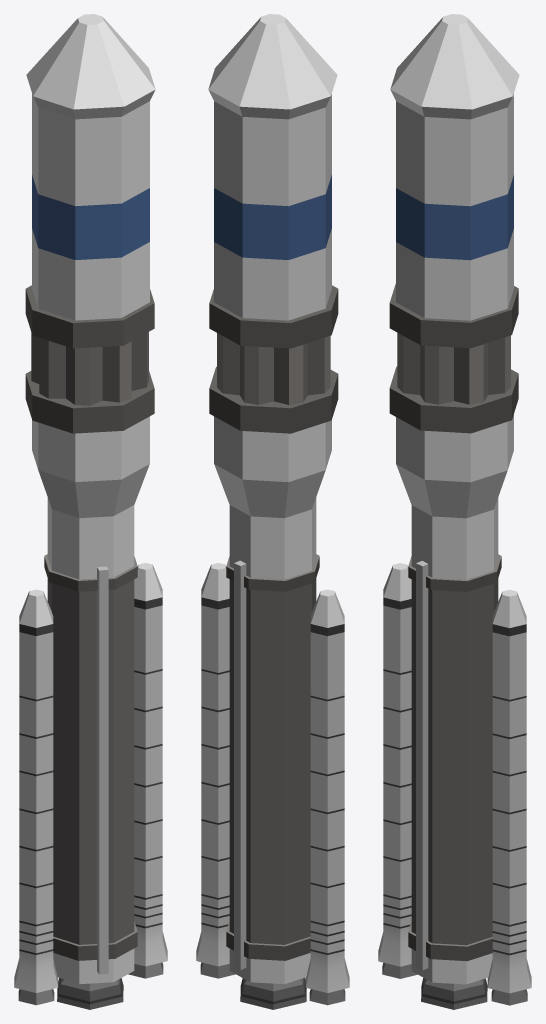
File: SM_Veh_Rocket_15.fbx
3 renders of one model, left to right at view 1: azimuth 30°, elevation 25°; view 2: azimuth 150°, elevation 25°; view 3: azimuth 330°, elevation 25°, orthographic.
Visible parts, largest first — view 1: SM_Veh_Rocket_15; view 2: SM_Veh_Rocket_15; view 3: SM_Veh_Rocket_15.
Part boxes in pixels (box(x1,y1,x2,y2)): SM_Veh_Rocket_15: box(14, 14, 167, 1009); SM_Veh_Rocket_15: box(196, 14, 349, 1009); SM_Veh_Rocket_15: box(378, 14, 531, 1009).
Size of the model in its own units: 1.65 by 10.04 by 1.25.
